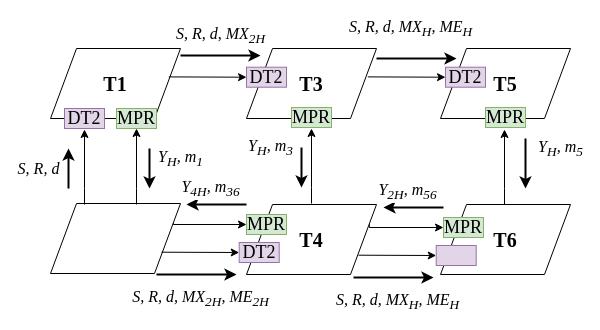
This 600x330 diagram has some shape labels left out. Here are the shapes that lost their labels. From the top down, the centre of each, then its label:
At point (115, 238): "T2".
At point (455, 255): "DT4".
